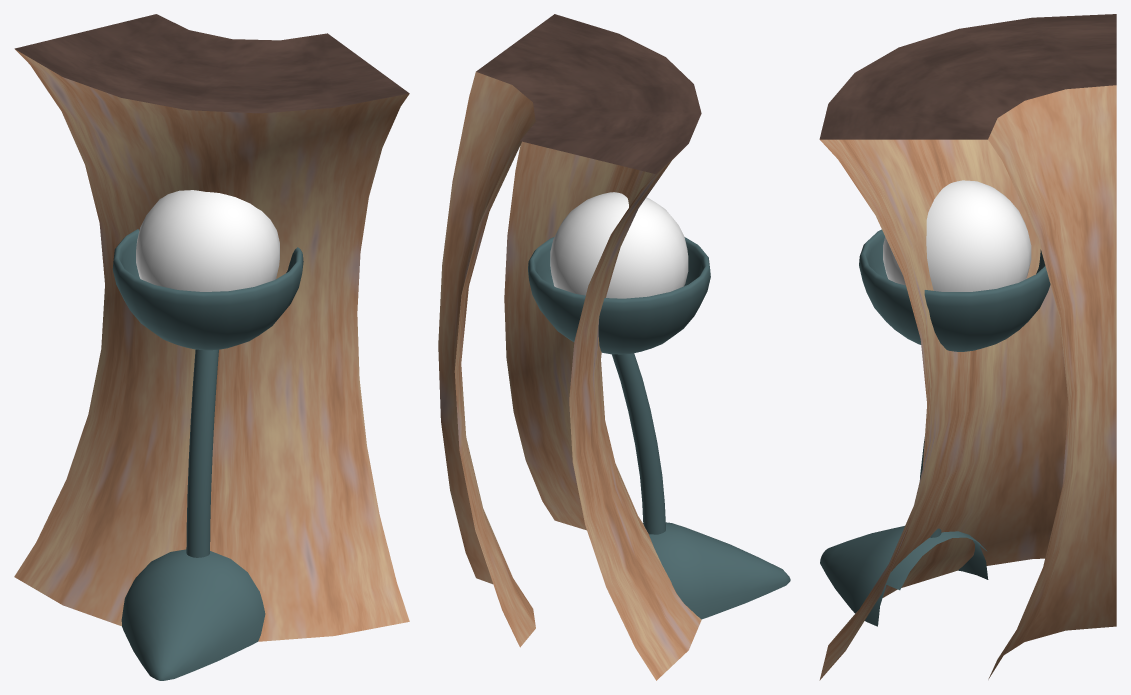
The model's file is FI_008_francos_building_wall_round_corner.glb.
3 views of the same model, side by side, from view 1: azimuth 30°, elevation 25°; view 2: azimuth 150°, elevation 25°; view 3: azimuth 270°, elevation 25° (orthographic). The views are drawn at different scales.
Visible parts, largest first — view 1: round_corner, wall_lamp; view 2: round_corner, wall_lamp; view 3: round_corner, wall_lamp.
Part boxes in pixels (x1,y1,x2,y2): round_corner: (14,14,409,641); wall_lamp: (112,190,303,680); round_corner: (438,14,701,680); wall_lamp: (528,192,790,619); round_corner: (819,14,1116,680); wall_lamp: (820,180,1050,626).
Size of the model in its own units: 1.49 by 3 by 1.49.
4 materials, 2 textured.
